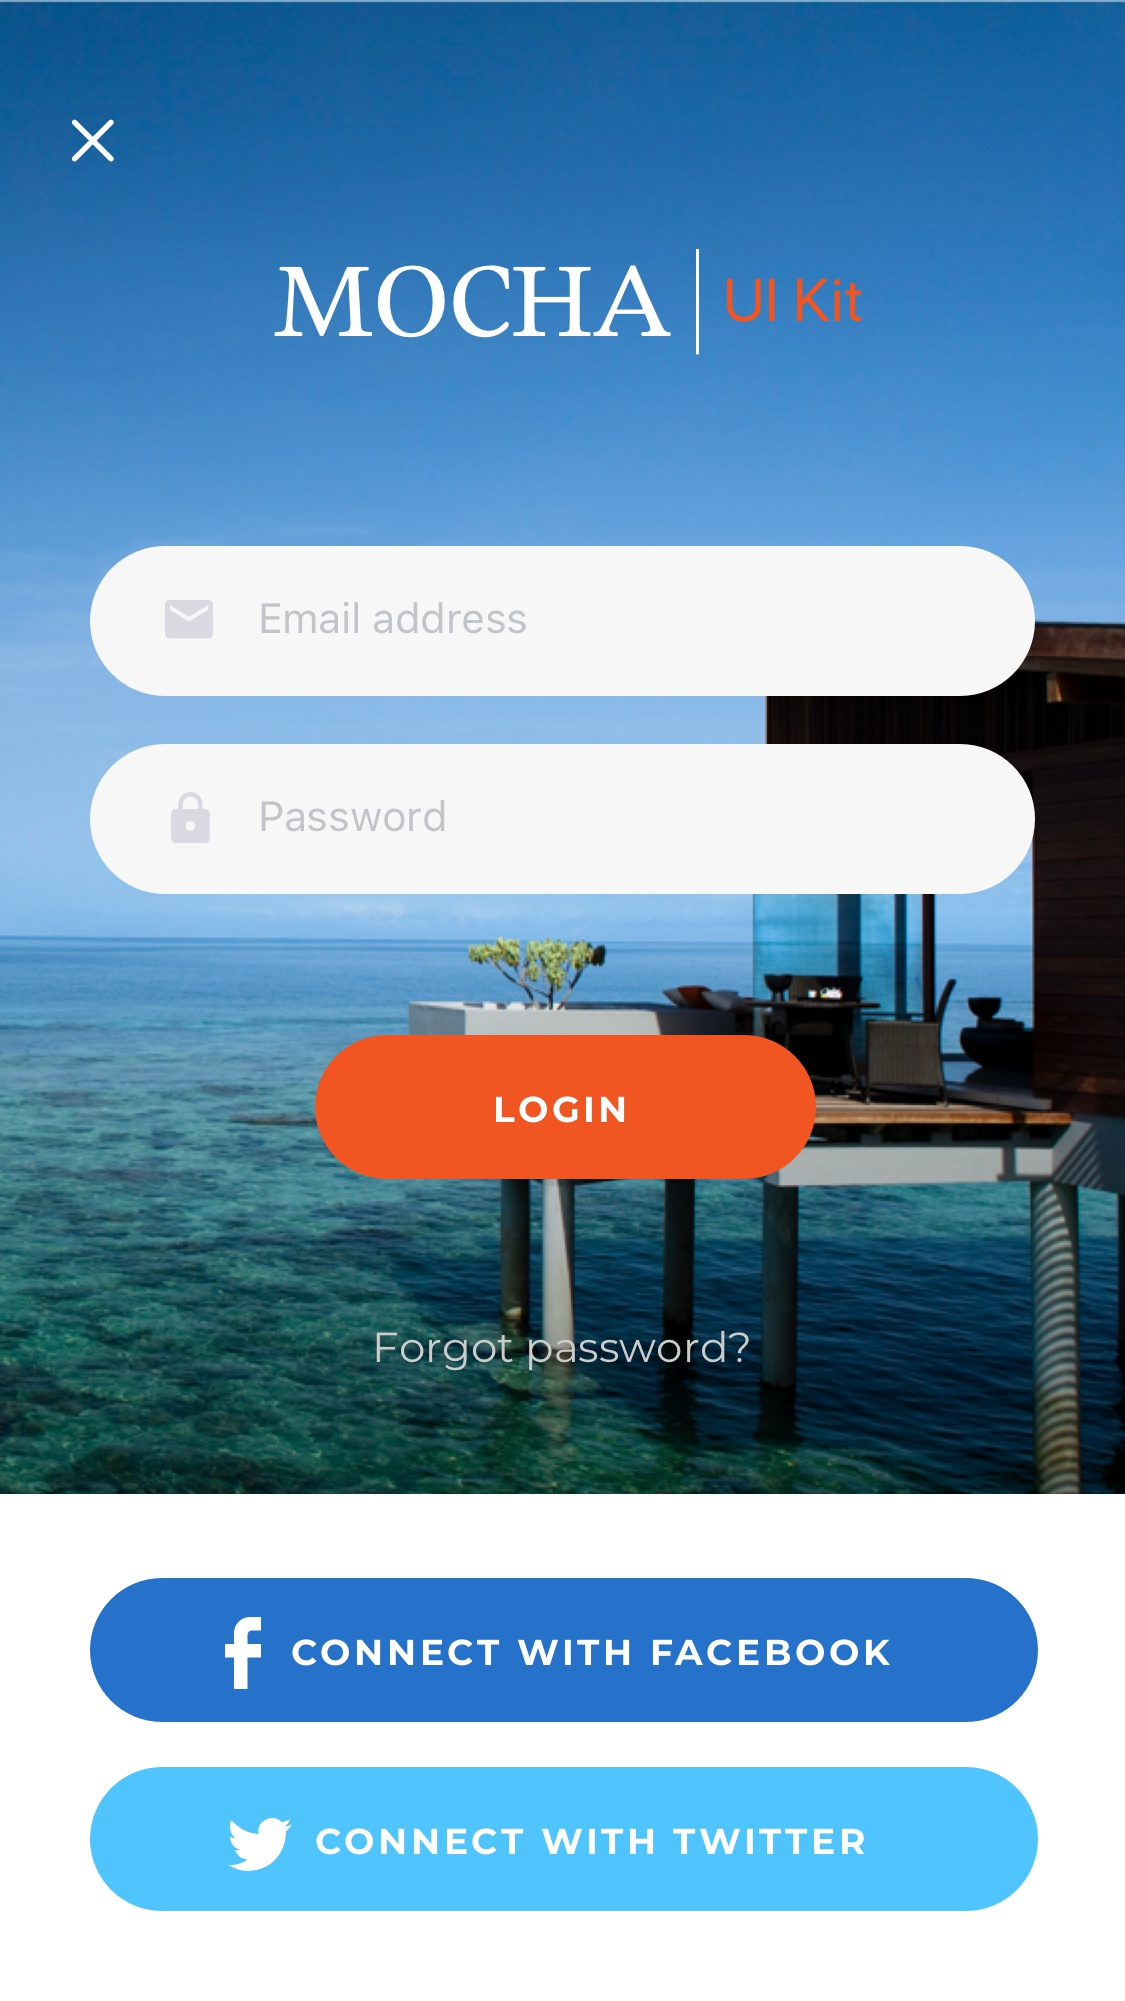EditText: (91, 546, 1036, 697), (91, 744, 1036, 895)
Icon: (170, 792, 212, 844), (165, 601, 214, 640), (71, 120, 115, 164)
Image: (1, 1, 1125, 1494)
Text: (273, 265, 672, 339), (376, 1330, 750, 1372), (261, 601, 526, 635), (727, 278, 863, 324), (262, 798, 446, 833)
TextButton: (91, 1576, 1038, 1723), (91, 1766, 1038, 1912), (315, 1035, 817, 1181)
